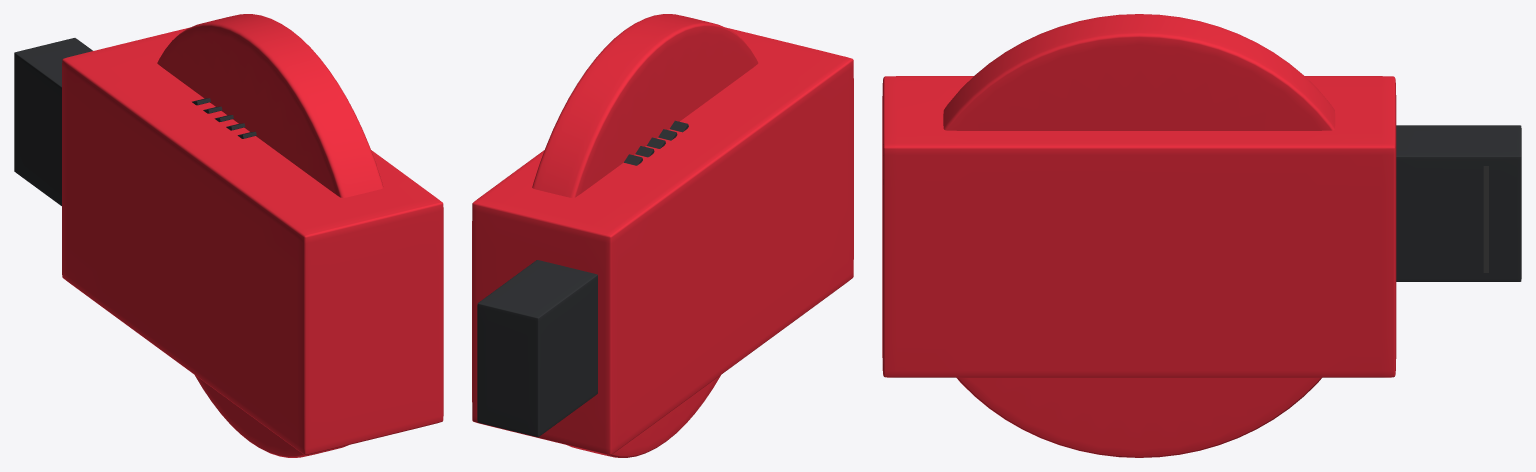
The model's file is hypercar_rear_haunch_right.glb.
The picture shows the model from 3 angles, left to right: view 1: azimuth 30°, elevation 25°; view 2: azimuth 150°, elevation 25°; view 3: azimuth 270°, elevation 25°; orthographic projection. The views are drawn at different scales.
Visible parts, largest first — view 1: Haunch_Panel_Right, Scoop_Duct_Right; view 2: Haunch_Panel_Right, Scoop_Duct_Right; view 3: Haunch_Panel_Right, Scoop_Duct_Right, Scoop_Mesh_Right.
Part boxes in pixels (x1,y1,x2,y2): Haunch_Panel_Right: [62, 14, 443, 457]; Scoop_Duct_Right: [14, 38, 92, 205]; Haunch_Panel_Right: [472, 14, 853, 457]; Scoop_Duct_Right: [477, 260, 597, 437]; Haunch_Panel_Right: [882, 14, 1396, 457]; Scoop_Duct_Right: [1396, 125, 1521, 281]; Scoop_Mesh_Right: [1483, 166, 1488, 272].
Size of the model in its own units: 0.3199 by 0.8755 by 1.19.
